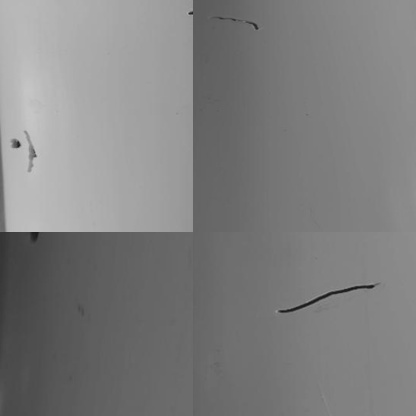fengxi: (261, 262, 388, 322), (201, 11, 263, 40)
sunshang: (6, 128, 51, 177)
